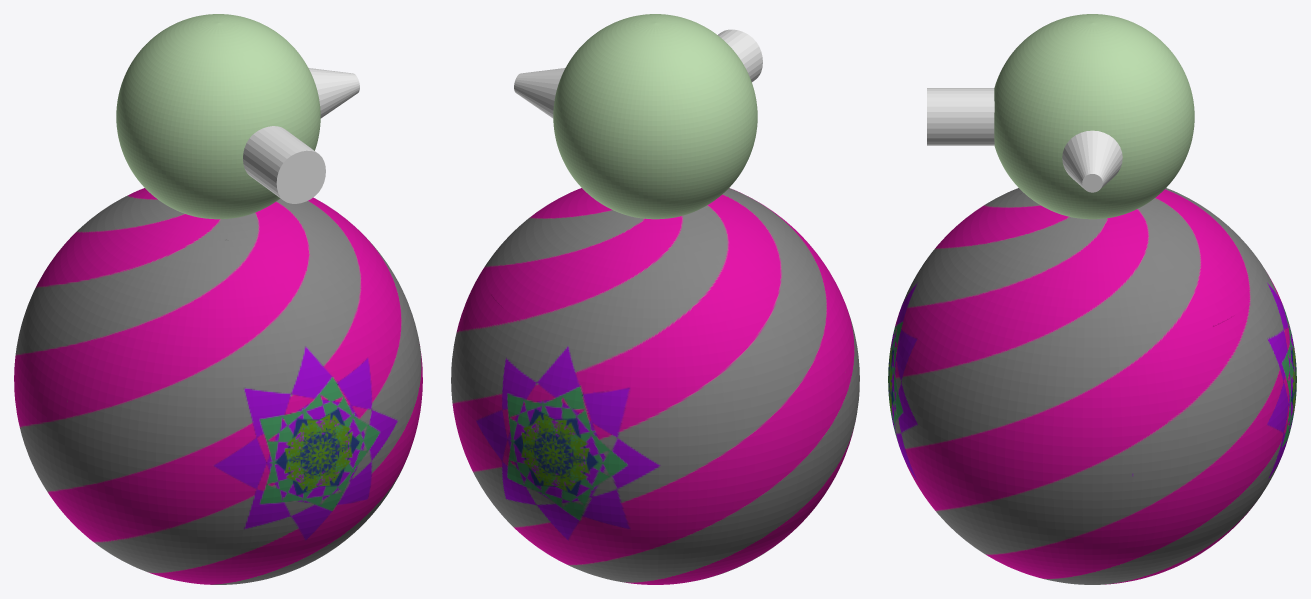
Rendered from BOD0_BMC0_BCC10_BPT3_FRC24_HEA0_HMC14_HCC8_HPT0_ELT0_ERT2_ELL0_ERL2_AP0_AAL0_AAR1_BEK1.fbx.
3 renders of one model, left to right at view 1: azimuth 30°, elevation 25°; view 2: azimuth 150°, elevation 25°; view 3: azimuth 270°, elevation 25°, orthographic.
Visible parts, largest first — view 1: Body, Beak, Ear; view 2: Body, Ear, Beak; view 3: Body, Beak, Ear.
Part boxes in pixels (<box>): Body: <box>14,14,422,584</box>; Beak: <box>243,126,325,203</box>; Ear: <box>308,68,359,118</box>; Body: <box>451,14,859,584</box>; Ear: <box>514,68,565,118</box>; Beak: <box>718,29,762,81</box>; Body: <box>888,14,1296,584</box>; Beak: <box>927,88,994,145</box>; Ear: <box>1062,130,1122,192</box>.
Bounding box in the file's own units: 49.36 × 72.41 × 49.36.
1 material, 1 textured.
